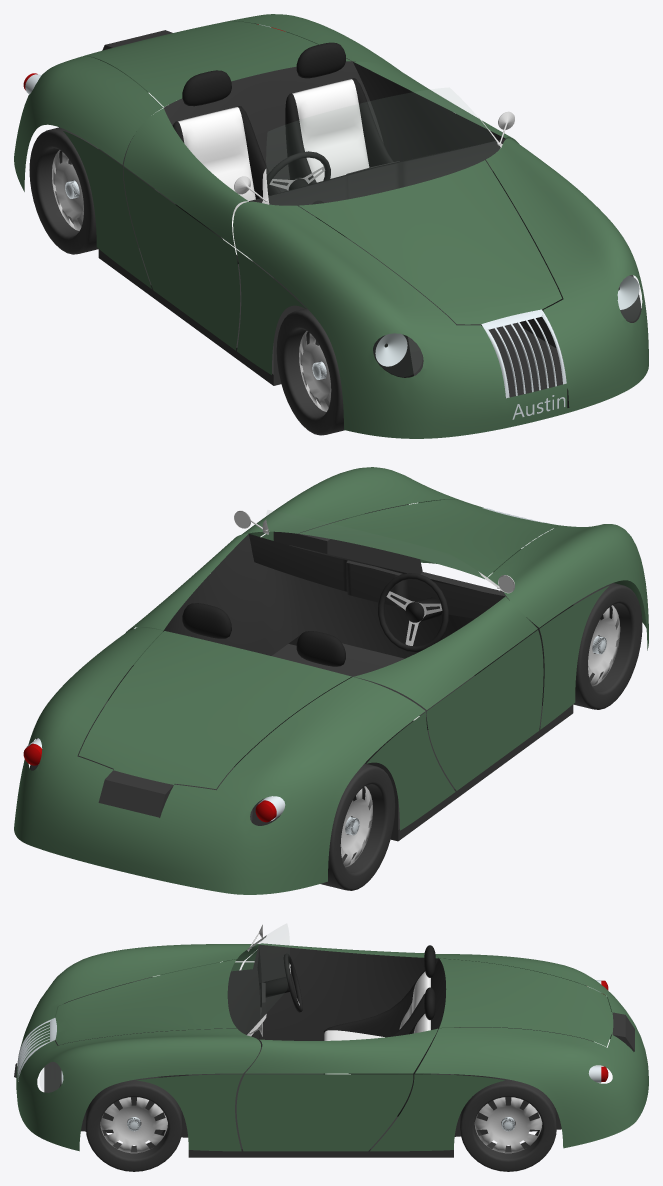
File: straightSofa.glb
3 views of the same model, one above another, from view 1: azimuth 30°, elevation 25°; view 2: azimuth 150°, elevation 25°; view 3: azimuth 270°, elevation 25° (orthographic). The views are drawn at different scales.
Parts seen in each view (by area): view 1: Bézier_2, Bézier_3, Recaro, Dunlop, a, door, Polygon_Objekt, i, int, board, h, v (+4 smaller); view 2: Bézier_3, Bézier_2, i, Dunlop, a, door, Polygon_Objekt, board, h, v, Recaro, Würfel (+3 smaller); view 3: Bézier_2, Bézier_3, Dunlop, i, a, door, h, v, Polygon_Objekt, Recaro, int, Bézier (+3 smaller).
Boxes of the visible parts, x1,y1,x2,y2 form: Bézier_2: (233, 138, 648, 438); Bézier_3: (14, 14, 401, 191); Recaro: (173, 42, 393, 263); Dunlop: (29, 58, 641, 435); a: (123, 167, 240, 350); door: (123, 61, 518, 246); Polygon_Objekt: (98, 23, 563, 397); i: (353, 62, 519, 215); int: (159, 61, 383, 204); board: (249, 138, 505, 216); h: (63, 131, 152, 289); v: (236, 249, 305, 374); Bézier_3: (14, 628, 425, 894); Bézier_2: (242, 467, 648, 650); i: (163, 534, 534, 675); Dunlop: (30, 518, 642, 890); a: (133, 627, 543, 790); door: (126, 533, 537, 709); Polygon_Objekt: (77, 504, 573, 841); board: (249, 534, 504, 618); h: (366, 712, 455, 830); v: (261, 531, 608, 729); Recaro: (182, 603, 428, 732); Würfel: (98, 770, 174, 817); Bézier_2: (16, 944, 260, 1151); Bézier_3: (415, 954, 648, 1148); Dunlop: (85, 977, 556, 1171); i: (197, 944, 438, 1045); a: (236, 962, 413, 1151); door: (245, 943, 437, 1073); h: (370, 1027, 504, 1151); v: (137, 962, 242, 1151); Polygon_Objekt: (44, 982, 593, 1157); Recaro: (324, 945, 435, 1116); int: (424, 959, 446, 1074); Bézier: (17, 1018, 56, 1080).
Size of the model in its own units: 1.7 by 1.15 by 4.07.
